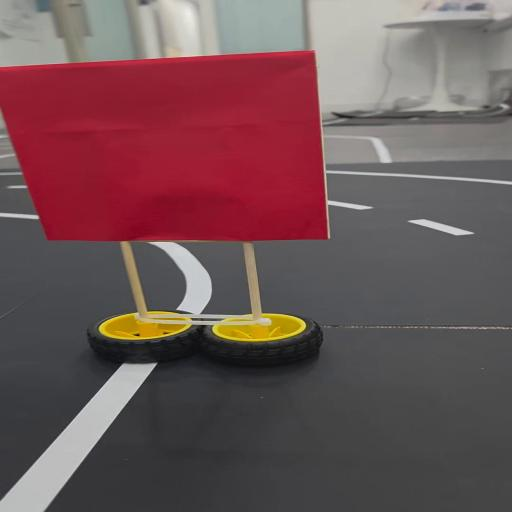Sign_A: (3, 46, 338, 370)
